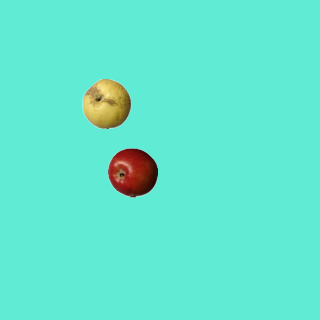Apple Braeburn: (107, 147, 157, 197)
Apple Golden 1: (81, 78, 131, 128)
